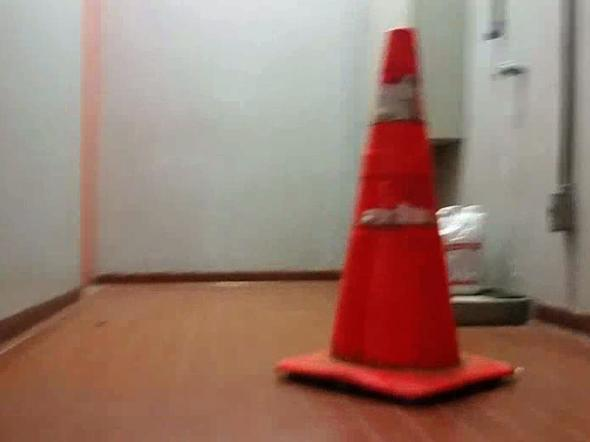0 cone: (273, 25, 514, 399)
